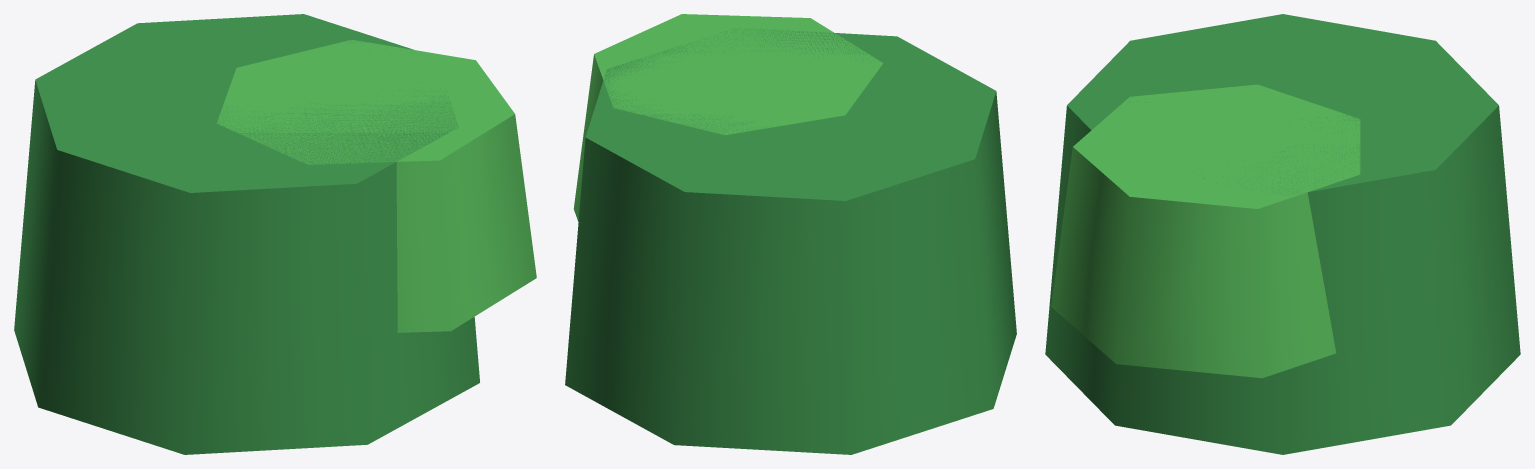
File: bush_large.glb
3 renders of one model, left to right at view 1: azimuth 30°, elevation 25°; view 2: azimuth 150°, elevation 25°; view 3: azimuth 270°, elevation 25°, orthographic. The views are drawn at different scales.
Parts seen in each view (by area): view 1: bush_large; view 2: bush_large; view 3: bush_large.
Boxes of the visible parts, <box> form: bush_large: <box>14,14,536,454</box>; bush_large: <box>565,14,1016,454</box>; bush_large: <box>1045,14,1520,454</box>.
Size of the model in its own units: 1.73 by 0.945 by 1.63.
